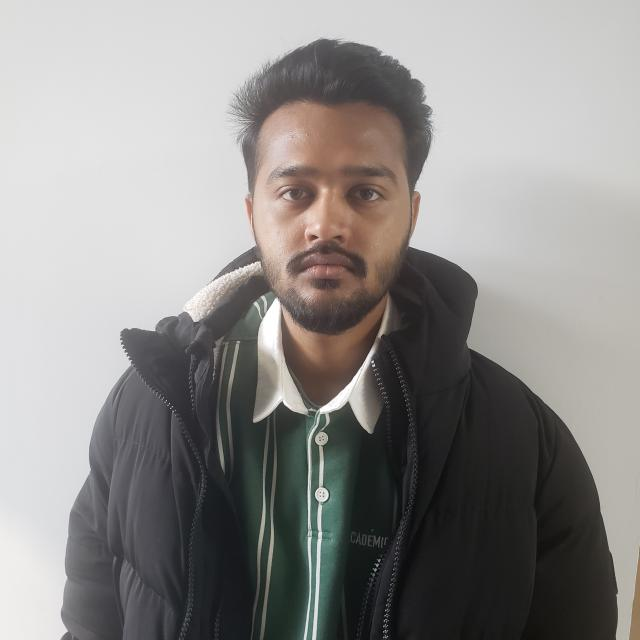sad: (233, 36, 411, 339)
